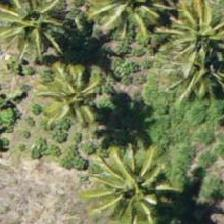coconut_tree: (26, 46, 116, 136), (94, 144, 184, 223), (158, 29, 223, 119), (159, 0, 223, 83), (0, 0, 76, 62)
